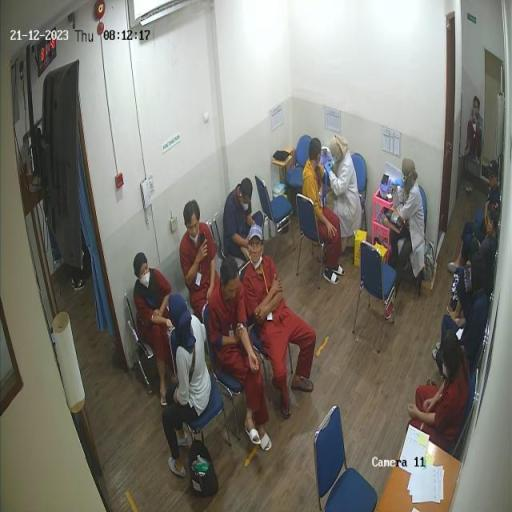person: (243, 225, 317, 419), (208, 259, 273, 452), (162, 296, 214, 479), (134, 252, 183, 408), (408, 332, 472, 451), (385, 159, 427, 318), (436, 252, 489, 375), (449, 204, 500, 330), (303, 138, 344, 284), (449, 160, 500, 274), (181, 200, 220, 325), (325, 135, 362, 254), (224, 179, 260, 266), (465, 100, 484, 176)
